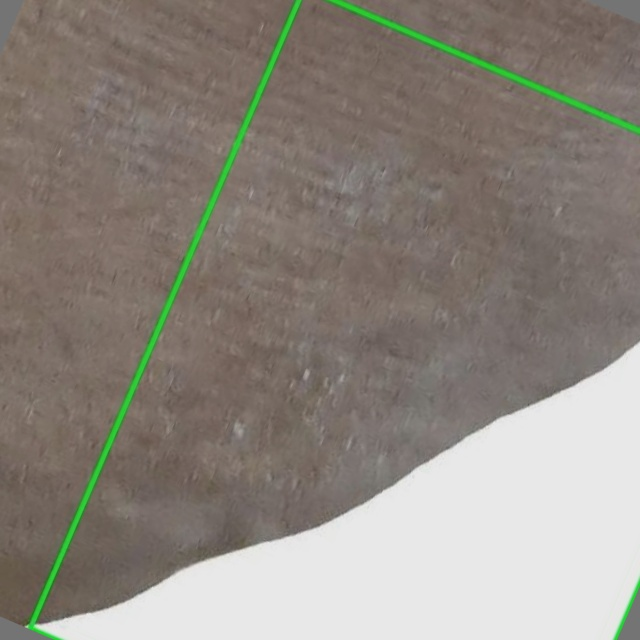Tinea Corporis: (30, 0, 639, 639)
